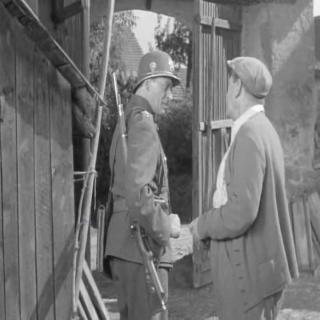gun: (110, 72, 170, 313)
